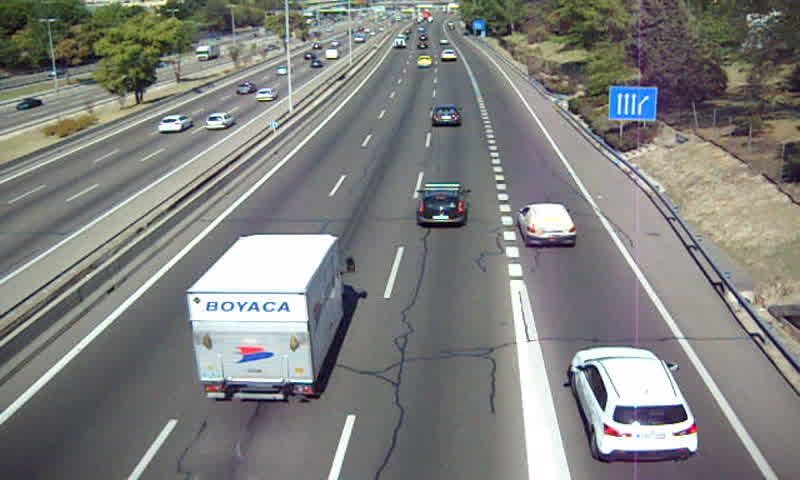car: (570, 346, 699, 460), (518, 202, 576, 245), (417, 182, 467, 226), (429, 105, 461, 127), (440, 48, 458, 62), (416, 54, 433, 68)
small-truck: (186, 234, 347, 398)
